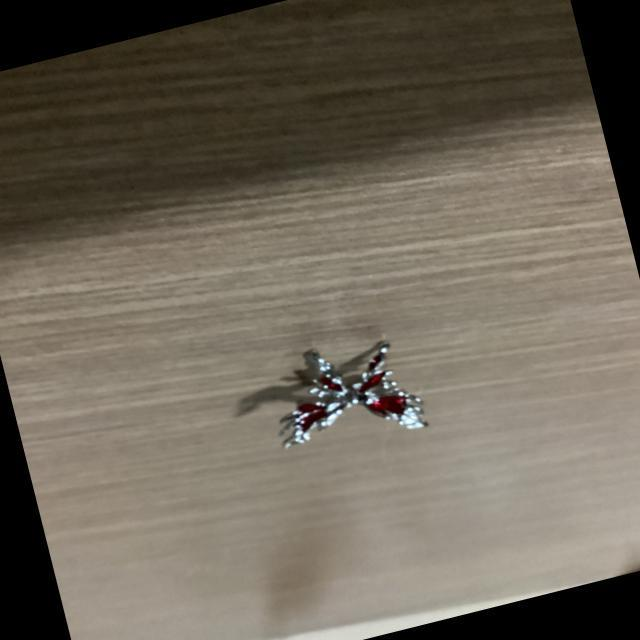Ring: (263, 333, 447, 452)
